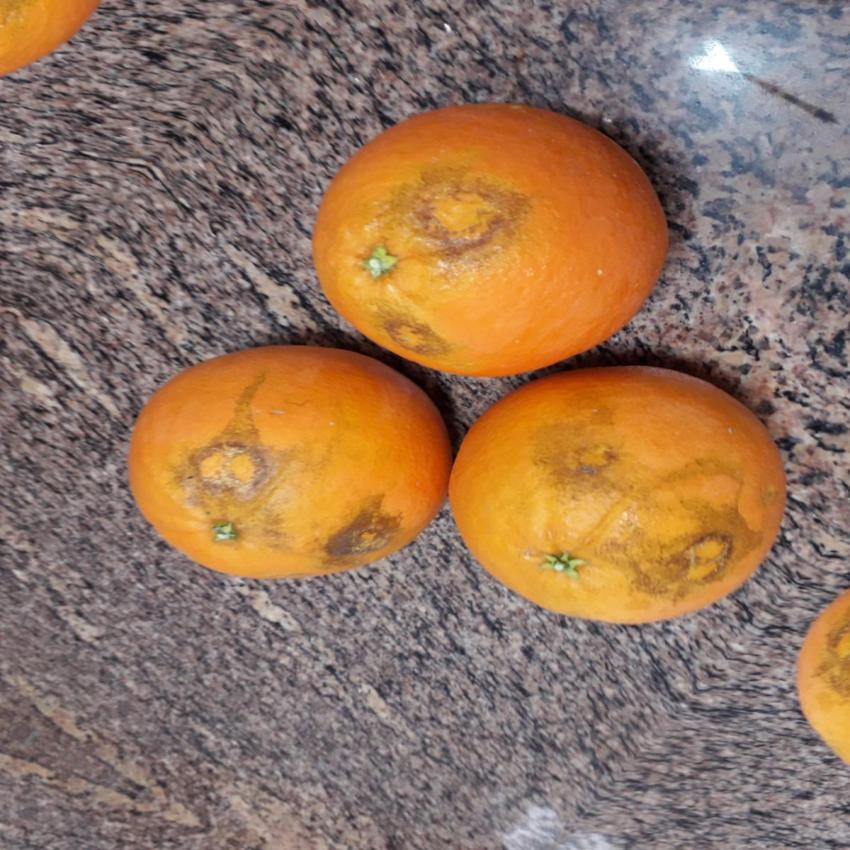Mal estado: (279, 87, 707, 376), (429, 350, 795, 632), (87, 340, 469, 608), (788, 562, 850, 790)
